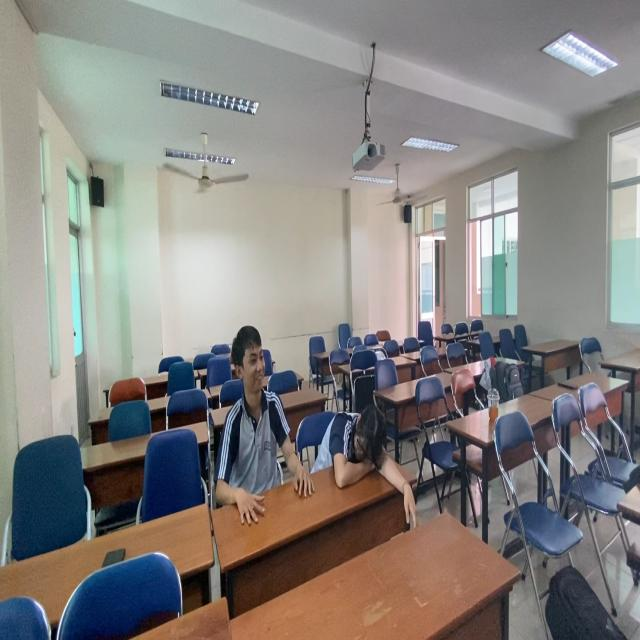sleep: (311, 405, 420, 532)
